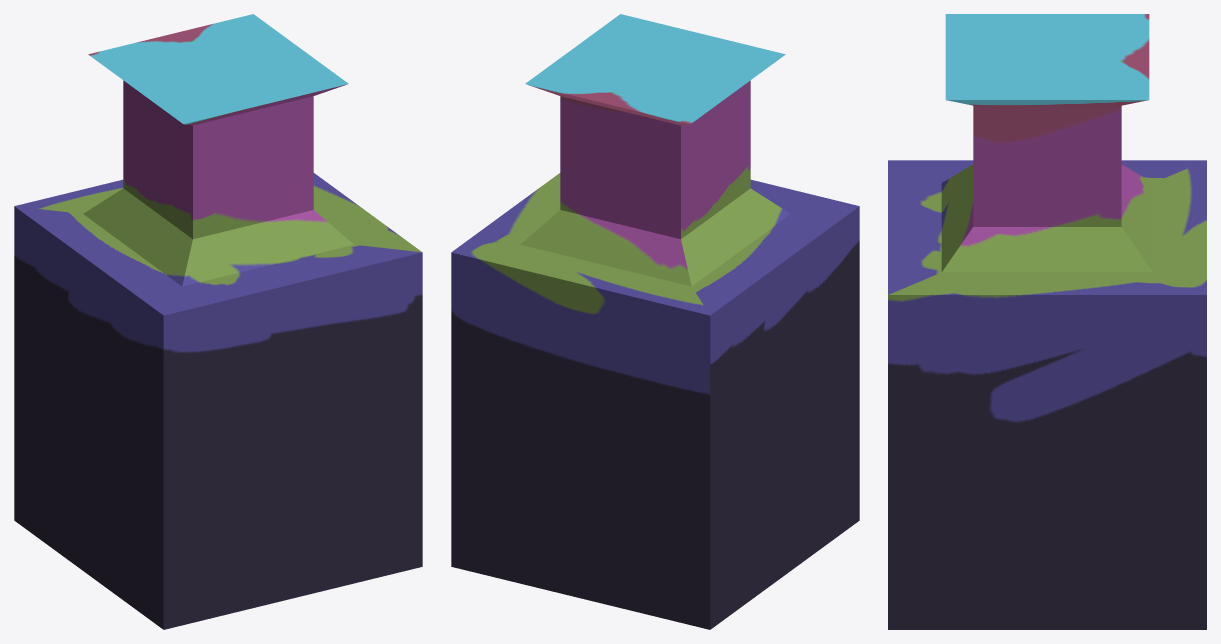
3 views of the same model, side by side, from view 1: azimuth 30°, elevation 25°; view 2: azimuth 150°, elevation 25°; view 3: azimuth 270°, elevation 25° (orthographic). The views are drawn at different scales.
Parts seen in each view (by area): view 1: Cube; view 2: Cube; view 3: Cube.
Boxes of the visible parts, bbox=[...] form: Cube: bbox=[14, 14, 422, 629]; Cube: bbox=[451, 14, 859, 629]; Cube: bbox=[888, 14, 1206, 629].
Bounding box in the file's own units: 2 × 3.5 × 2.
Materials: 1 (1 with a texture image).
